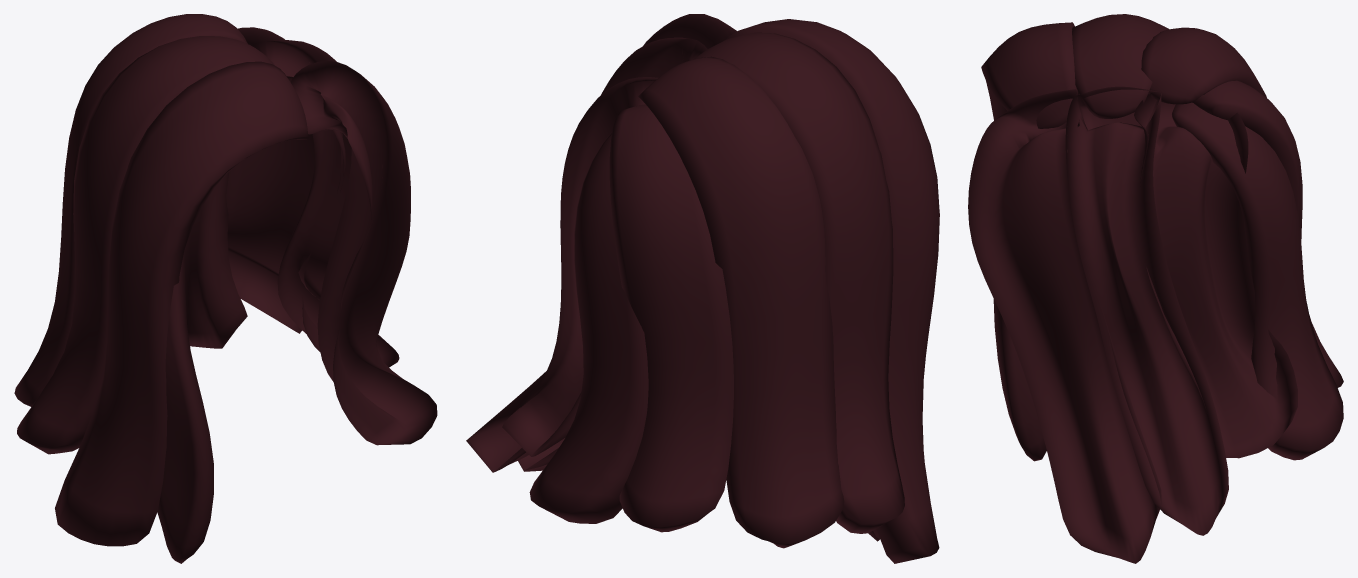
File: woman-hair-2.glb
The picture shows the model from 3 angles, left to right: view 1: azimuth 30°, elevation 25°; view 2: azimuth 150°, elevation 25°; view 3: azimuth 270°, elevation 25°; orthographic projection. The views are drawn at different scales.
Visible parts, largest first — view 1: Head2_HairBand01, Head2_HairBand09, Head2_HairBand02, Head2_HairBand04, Head2_HairBand03, Head2_HairBand05, Head2_HairBand06, Head2_HairBand08; view 2: Head2_HairBand06, Head2_HairBand07, Head2_HairBand02, Head2_HairBand01, Head2_HairBand08, Head2_HairBand04, Head2_HairBand03, Head2_HairBand09; view 3: Head2_HairBand09, Head2_HairBand03, Head2_HairBand04, Head2_HairBand08, Head2_HairBand02, Head2_HairBand01, Head2_HairBand06, Head2_HairBand07, Head2_HairBand05.
Part boxes in pixels (box(x1,y1,x2,y2)): Head2_HairBand01: box(55, 61, 308, 546); Head2_HairBand09: box(291, 61, 437, 445); Head2_HairBand02: box(17, 36, 274, 454); Head2_HairBand04: box(226, 27, 343, 333); Head2_HairBand03: box(251, 40, 399, 367); Head2_HairBand05: box(157, 250, 213, 563); Head2_HairBand06: box(14, 14, 247, 406); Head2_HairBand08: box(184, 172, 247, 348); Head2_HairBand06: box(638, 56, 844, 548); Head2_HairBand07: box(609, 104, 733, 532); Head2_HairBand02: box(693, 32, 904, 533); Head2_HairBand01: box(726, 19, 939, 563); Head2_HairBand08: box(529, 132, 648, 523); Head2_HairBand04: box(502, 77, 658, 456); Head2_HairBand03: box(466, 37, 707, 472); Head2_HairBand09: box(518, 14, 736, 471); Head2_HairBand09: box(968, 89, 1161, 563); Head2_HairBand03: box(1065, 86, 1228, 535); Head2_HairBand04: box(1134, 93, 1297, 458); Head2_HairBand08: box(1172, 102, 1343, 460); Head2_HairBand02: box(1072, 14, 1168, 118); Head2_HairBand01: box(981, 22, 1079, 128); Head2_HairBand06: box(1141, 27, 1266, 104); Head2_HairBand07: box(1192, 80, 1343, 387); Head2_HairBand05: box(993, 299, 1046, 461).
Size of the model in its own units: 7.16 by 8.35 by 6.06.
